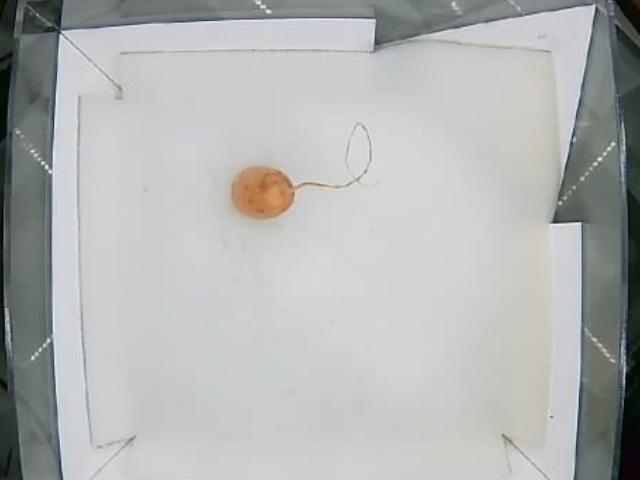Carrot: (231, 161, 299, 218)
